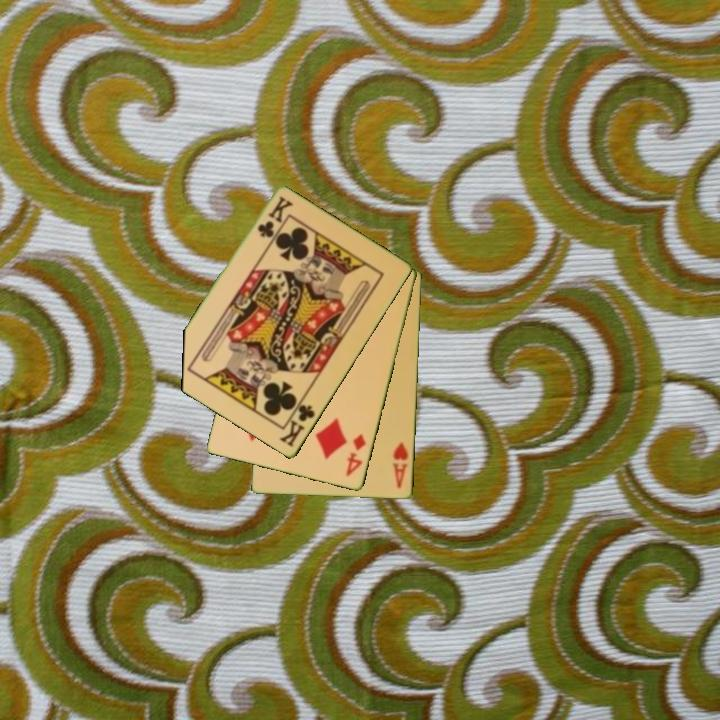4d: (342, 431, 369, 480)
Ah: (389, 439, 411, 491)
Kc: (276, 395, 318, 450), (254, 193, 294, 241)
